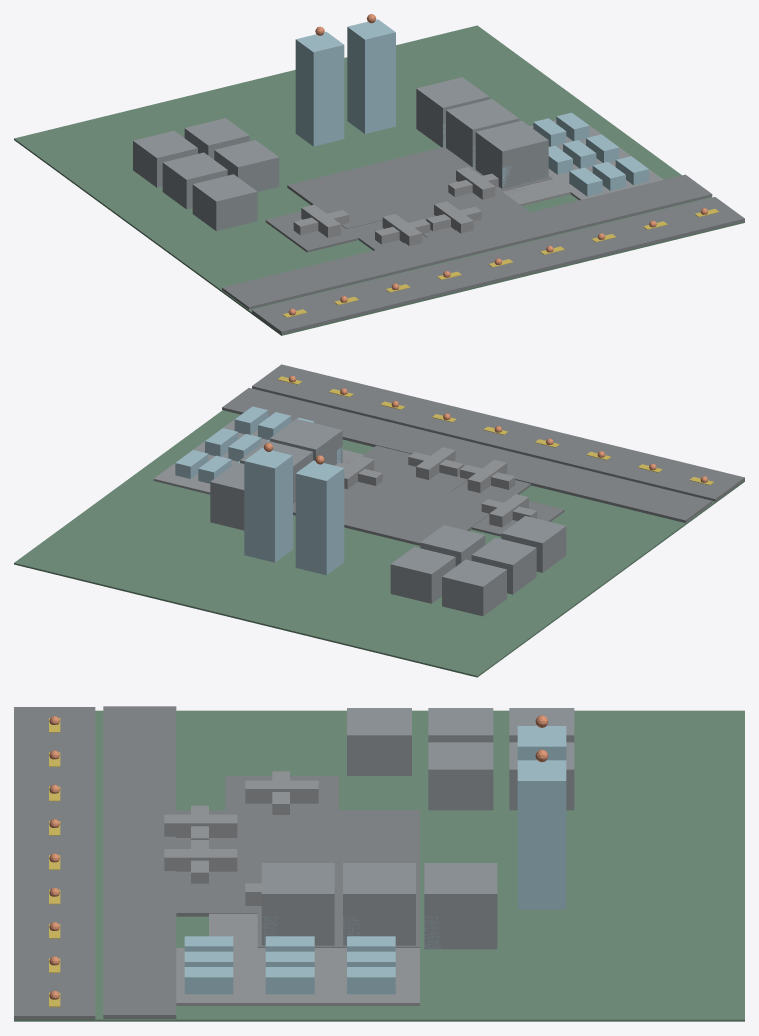
The model's file is stage_23.glb.
The picture shows the model from 3 angles, top to bottom: view 1: azimuth 30°, elevation 25°; view 2: azimuth 150°, elevation 25°; view 3: azimuth 270°, elevation 25°; orthographic projection. The views are drawn at different scales.
Parts seen in each view (by area): view 1: geometry_0; view 2: geometry_0; view 3: geometry_0.
Boxes of the visible parts, x1,y1,x2,y2 form: geometry_0: [14, 14, 744, 335]; geometry_0: [14, 364, 744, 677]; geometry_0: [14, 706, 744, 1021].
Bounding box in the file's own units: 9 × 2.06 × 9.
